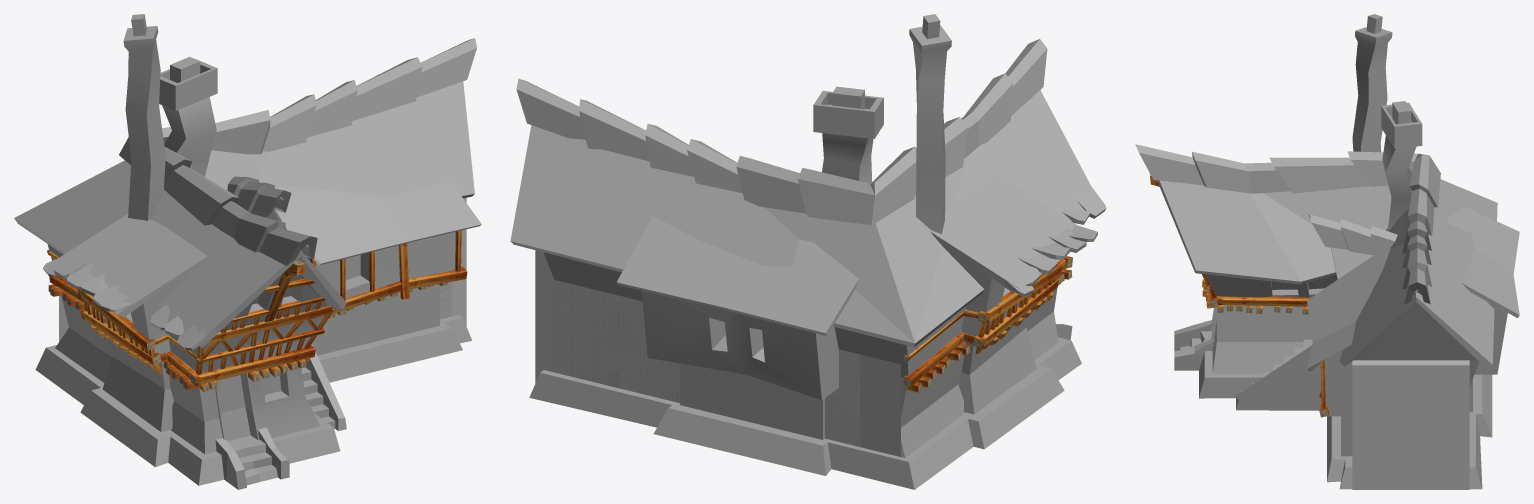
The model's file is MedievalHouseLShape.fbx.
3 renders of one model, left to right at view 1: azimuth 30°, elevation 25°; view 2: azimuth 150°, elevation 25°; view 3: azimuth 270°, elevation 25°, orthographic. The views are drawn at different scales.
Parts seen in each view (by area): view 1: polySurface9; view 2: polySurface9; view 3: polySurface9.
Part boxes in pixels (x1,y1,x2,y2): polySurface9: [14, 14, 481, 489]; polySurface9: [510, 14, 1106, 489]; polySurface9: [1135, 14, 1519, 489].
Size of the model in its own units: 21.46 by 17.43 by 17.89.
